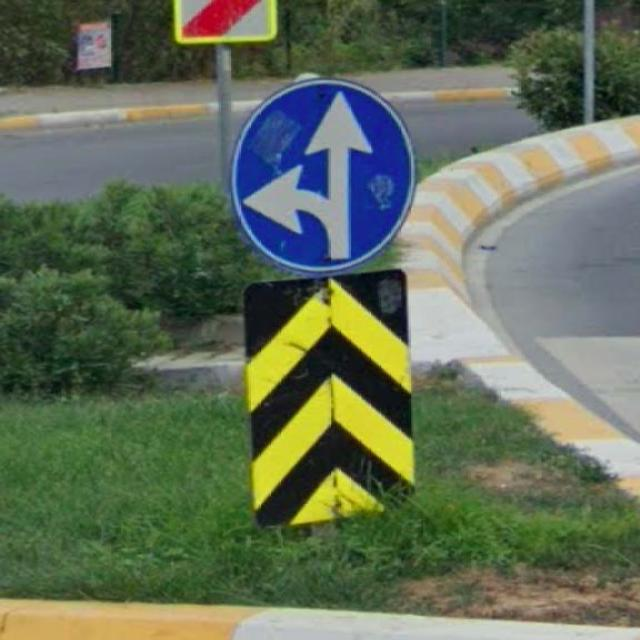ilerisol: (228, 79, 418, 270)
